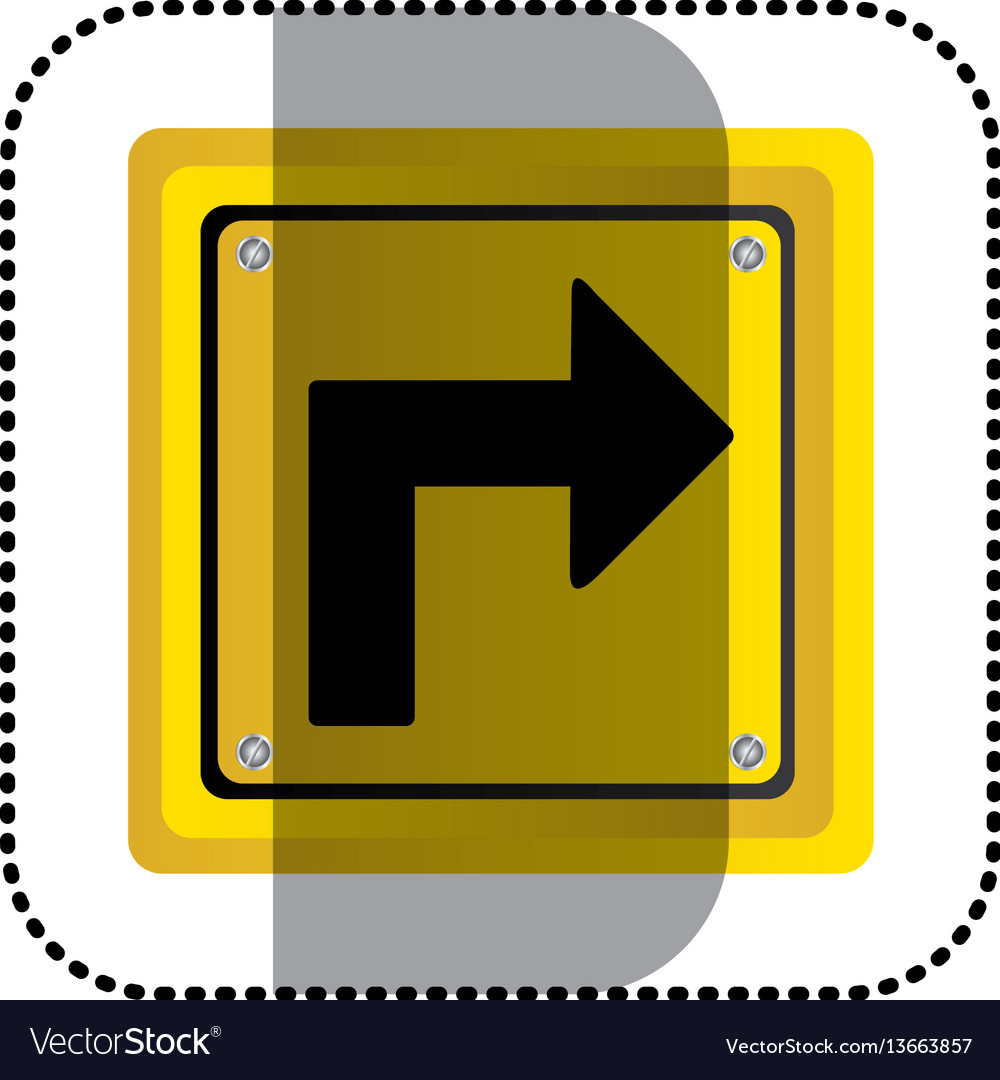right: (290, 270, 743, 730)
